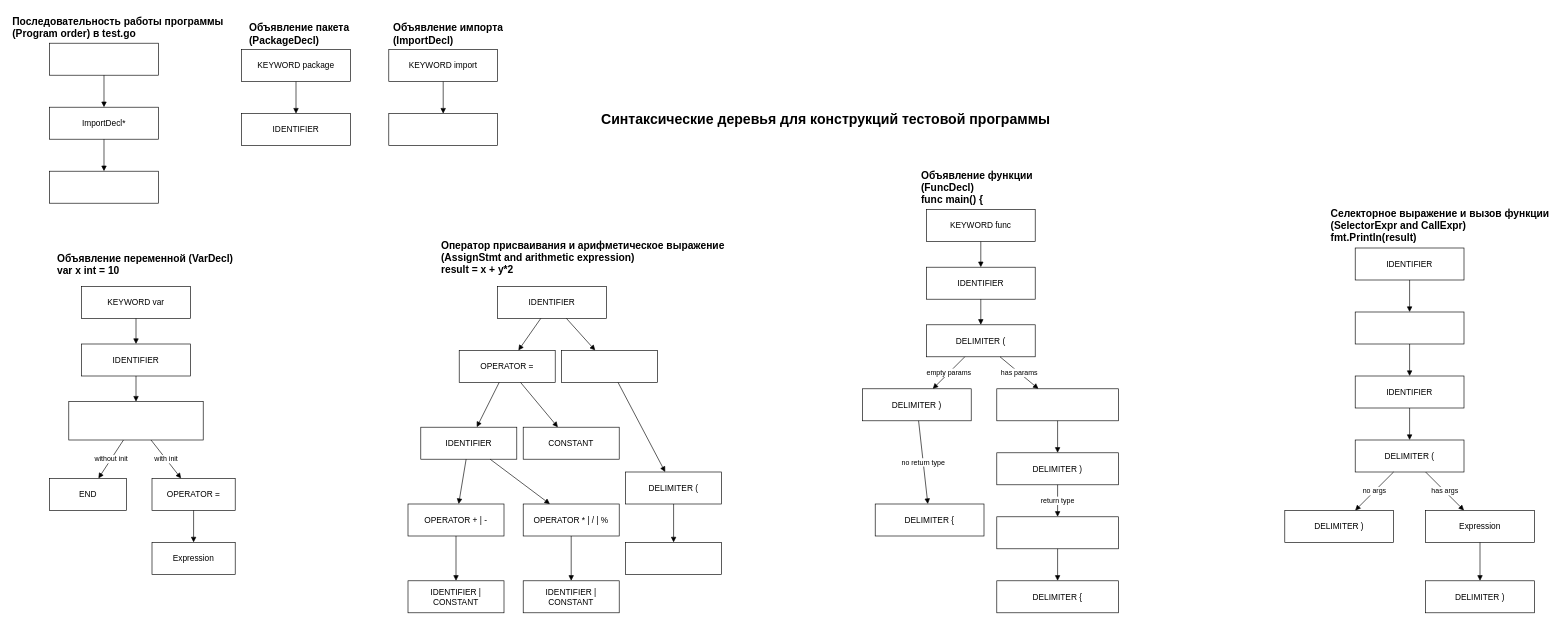
This 1563x624 diagram has some shape labels left out. The shapes that lost their labels are listed below. From the top down, each one's centre as x and y in pixels, then its label:
the point at 103,59: PackageDecl
the point at 443,129: CONSTANT_STR
the point at 103,187: FuncDecl+
the point at 1409,327: DELIMITER .
the point at 609,366: OPERATOR :=
the point at 135,420: Type: KEYWORD int | float64 | bool | string
the point at 1057,404: Param: IDENTIFIER Type
the point at 1057,532: ReturnType
the point at 673,558: Expression )
